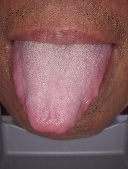tongue: (10, 46, 113, 137)
